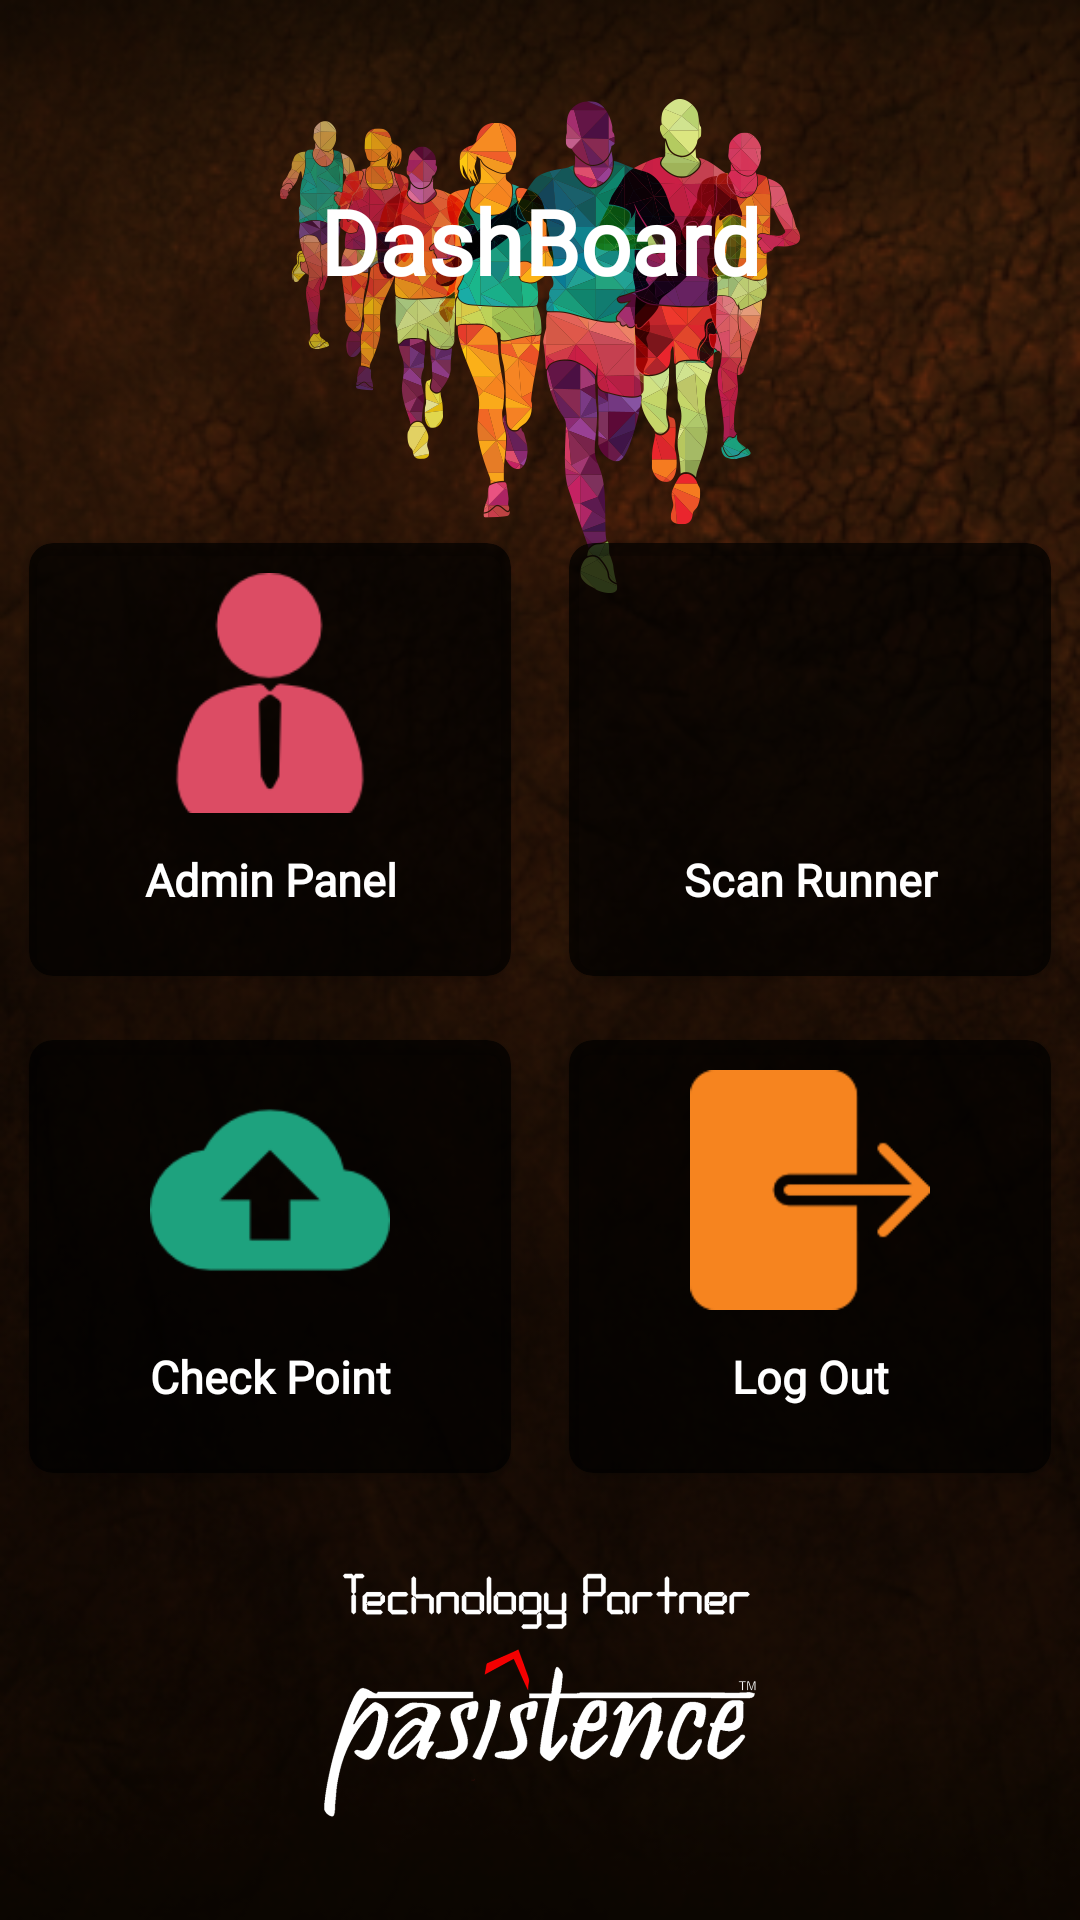

Where to tap for icons on this 1080 × 1920 app screen, as (x,y):
exit: (810,1190)
upload: (270,1190)
